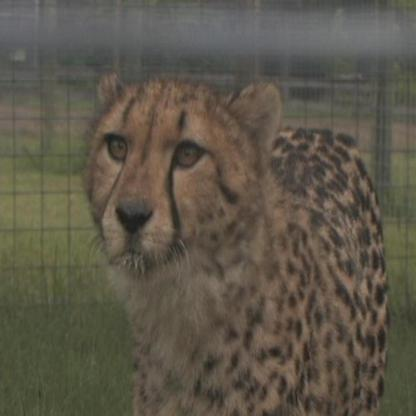leopard: (87, 59, 282, 299)
